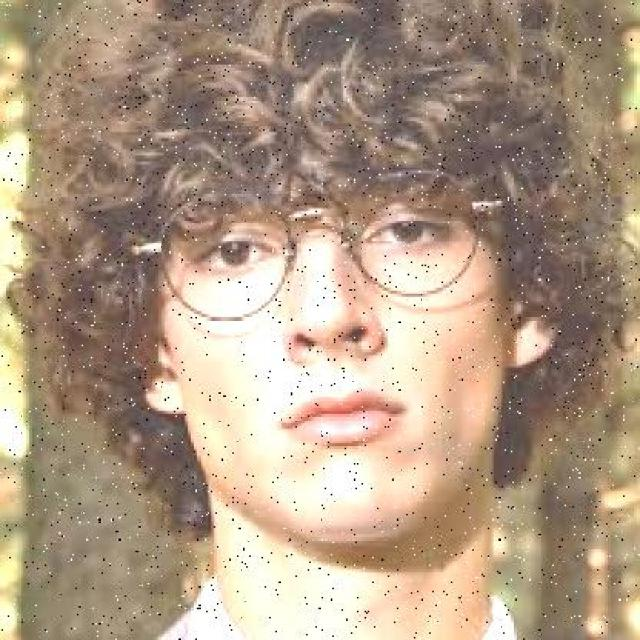glasses: (138, 165, 487, 317)
